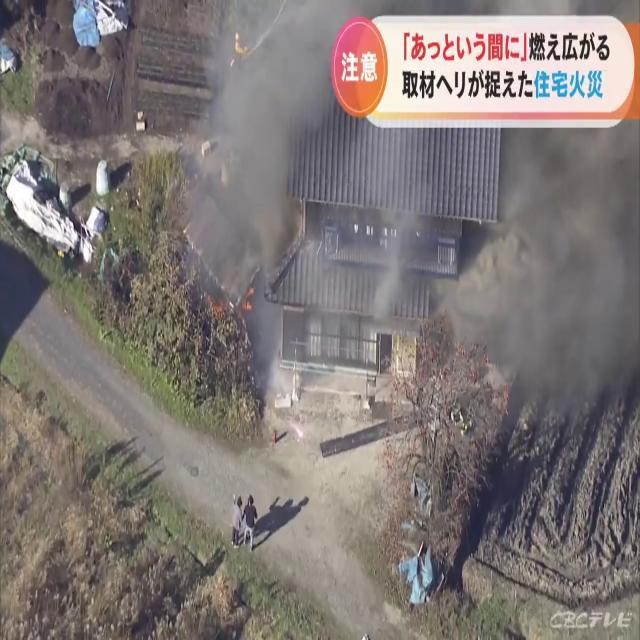Smoke: (453, 113, 640, 483), (183, 0, 318, 356)
